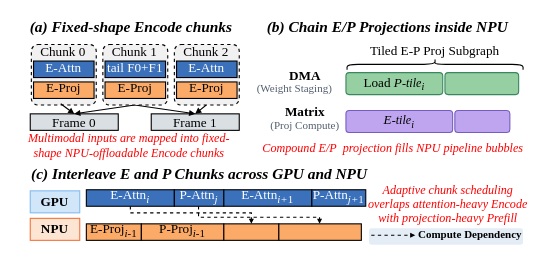
The diagram is 560 pixels wide and 264 high, and some of its shapes have lost their labels. Each missing label, with the centre of its shape:
"E-Proj i" belongs at (x=251, y=231).
"Load E -tile i+ 1" belongs at (x=481, y=83).
"P -tile i" belongs at (x=482, y=121).
"P-Proj j" belongs at (x=319, y=231).
